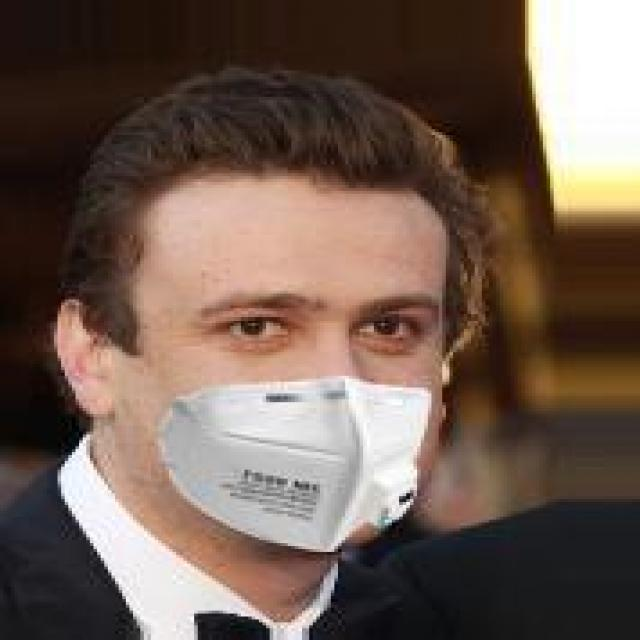mask: (54, 18, 496, 578)
